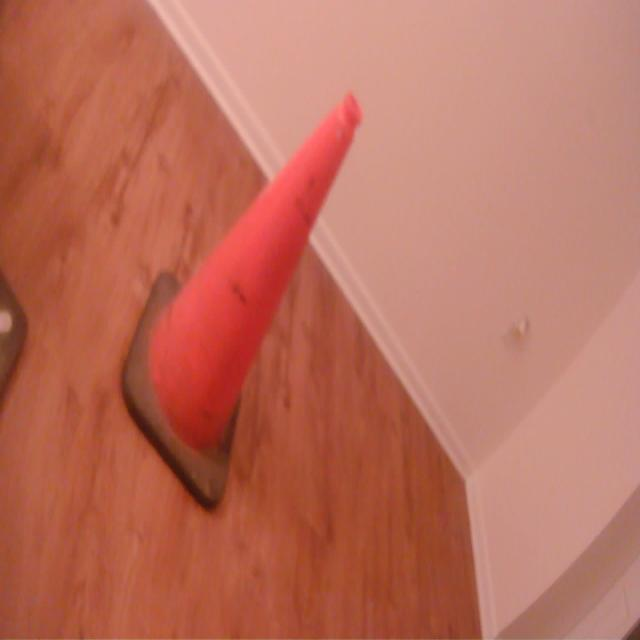traffic cone: (117, 86, 368, 517)
